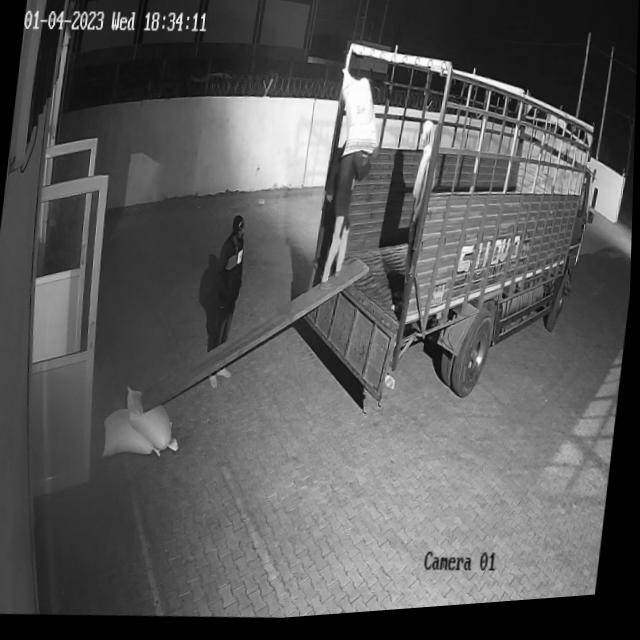sack: (332, 68, 385, 167), (121, 381, 187, 455), (103, 405, 168, 462)
